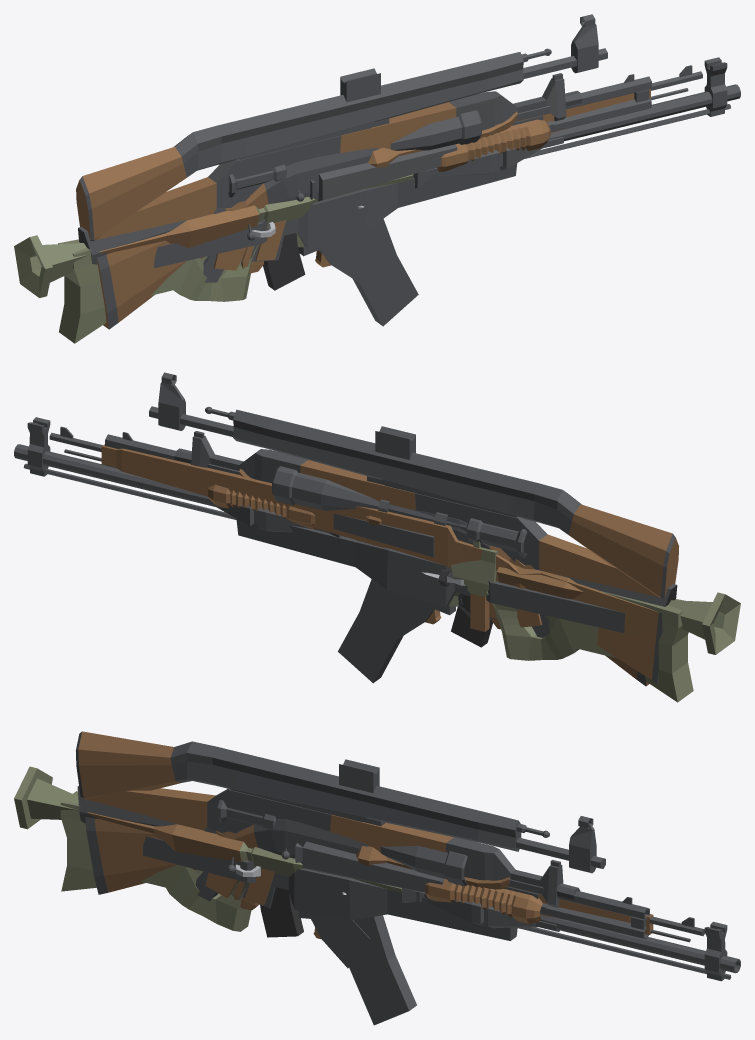
File: guns.glb
3 renders of one model, top to bottom at view 1: azimuth 30°, elevation 25°; view 2: azimuth 150°, elevation 25°; view 3: azimuth 330°, elevation 25°, orthographic.
Visible parts, largest first — view 1: assault, sniper, ak, shotgun, launcher, carbine, rifle, pistol; view 2: sniper, assault, rifle, ak, launcher, carbine, shotgun; view 3: assault, sniper, ak, shotgun, launcher, carbine, rifle, pistol.
Part boxes in pixels (x1,y1,x2,y2): assault: (76,14,607,326); sniper: (58,57,740,343); ak: (96,73,582,281); shotgun: (97,74,651,329); launcher: (14,137,563,297); carbine: (78,121,553,290); rifle: (296,65,702,201); pistol: (250,220,286,261); sniper: (14,417,693,702); assault: (149,372,679,683); rifle: (49,426,662,683); ak: (174,431,658,638); launcher: (217,505,740,654); carbine: (333,513,677,647); shotgun: (105,432,649,686); assault: (76,731,605,1025); sniper: (60,791,740,981); ak: (87,788,580,968); shotgun: (85,817,649,939); launcher: (14,766,559,939); carbine: (77,786,547,937); rifle: (281,848,704,942); pistol: (241,868,275,908).
Size of the model in its own units: 1.27 by 0.4395 by 0.0971.
